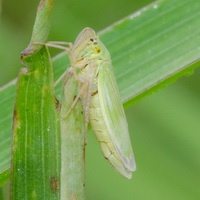insect: (44, 28, 135, 178)
